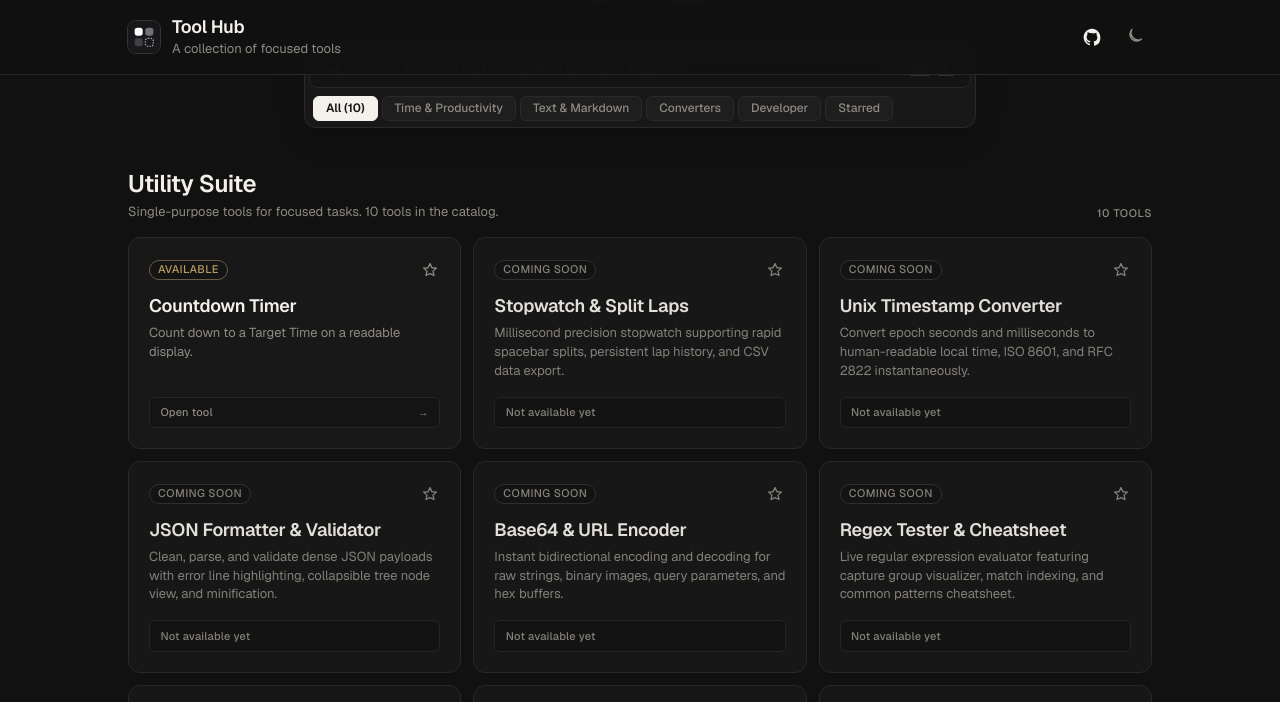
Test: Tool Hub homepage › lets a user open Countdown Timer and return home, while Coming soon tools do not navigate
(page scrolled)
What coordinates should you click on to do the following:
click the link "Countdown Timer"
I would click on:
 (223, 306)
Its box is [149,294,440,428].
(page scrolled)
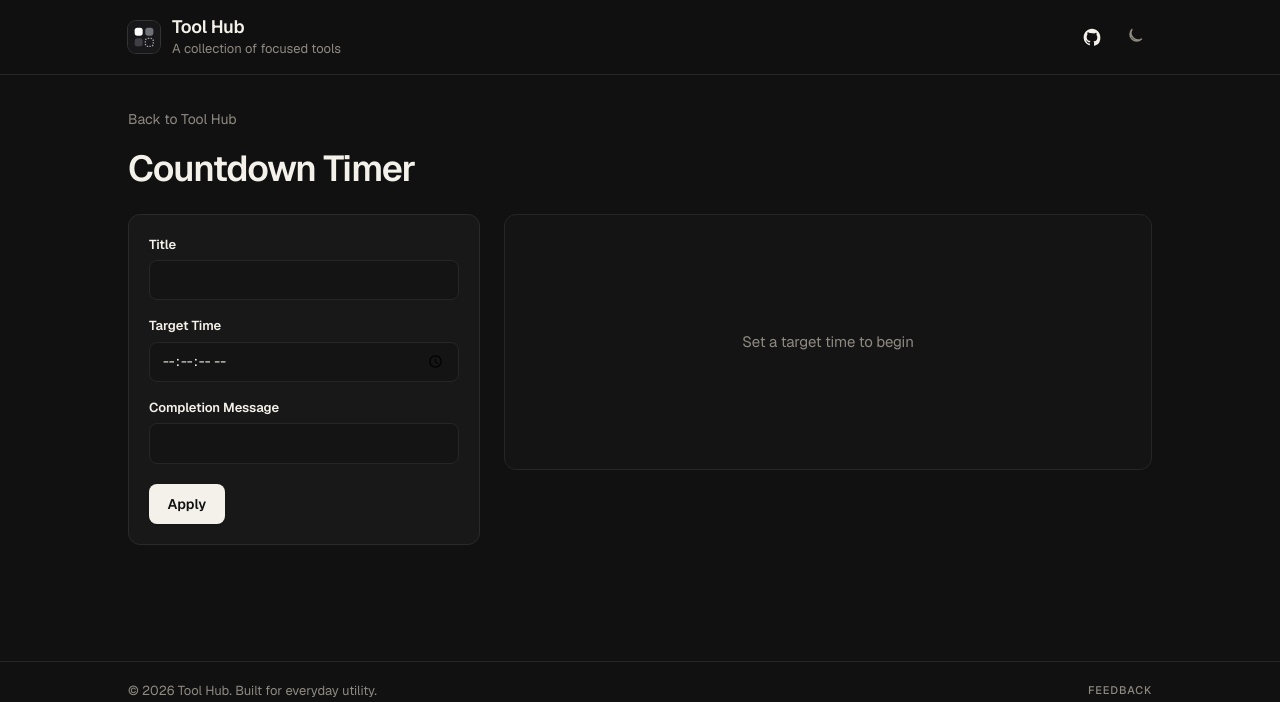
Expected: the heading "Countdown Timer" is shown, [128,144,415,192]
What coordinates should you click on to do the following:
click the link "Back to Tool Hub"
I would click on:
 (182, 118)
Its box is [128,110,237,128].
(page scrolled)
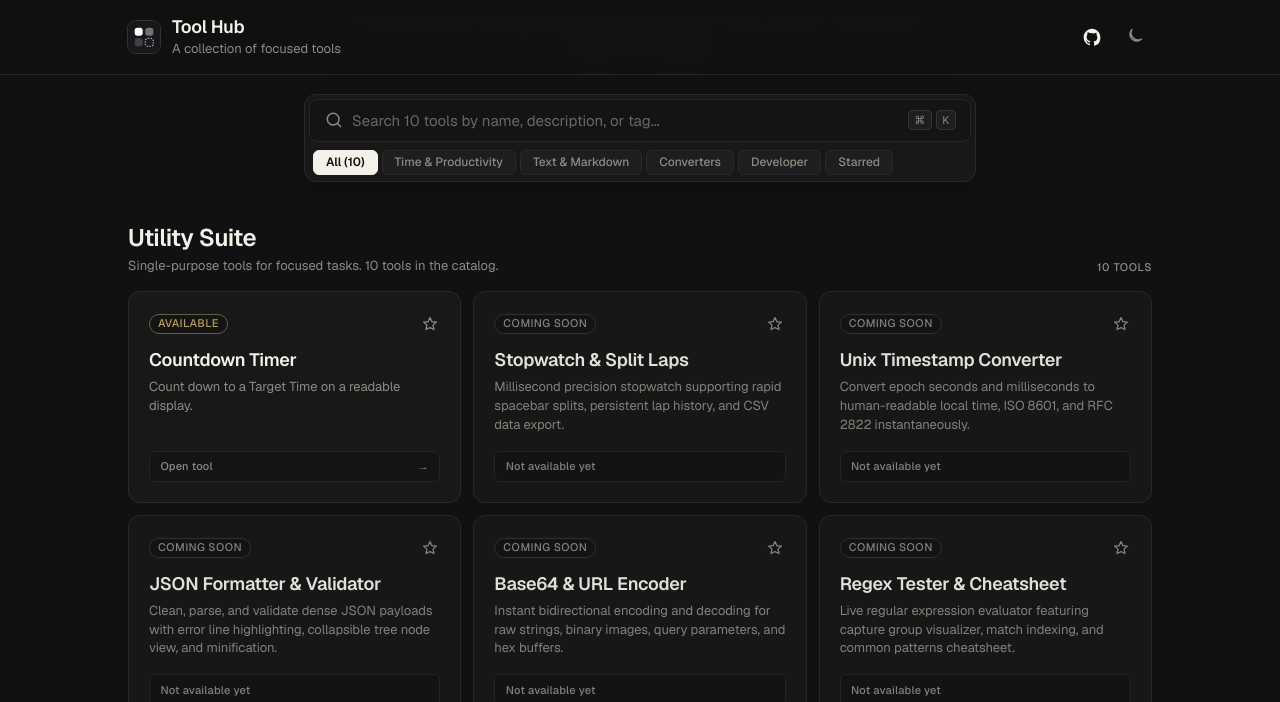
Expected: the text "Tool Hub" is shown, [172,15,244,38]
Expected: the heading "Stopwatch & Split Laps" is shown, [494,348,689,371]
